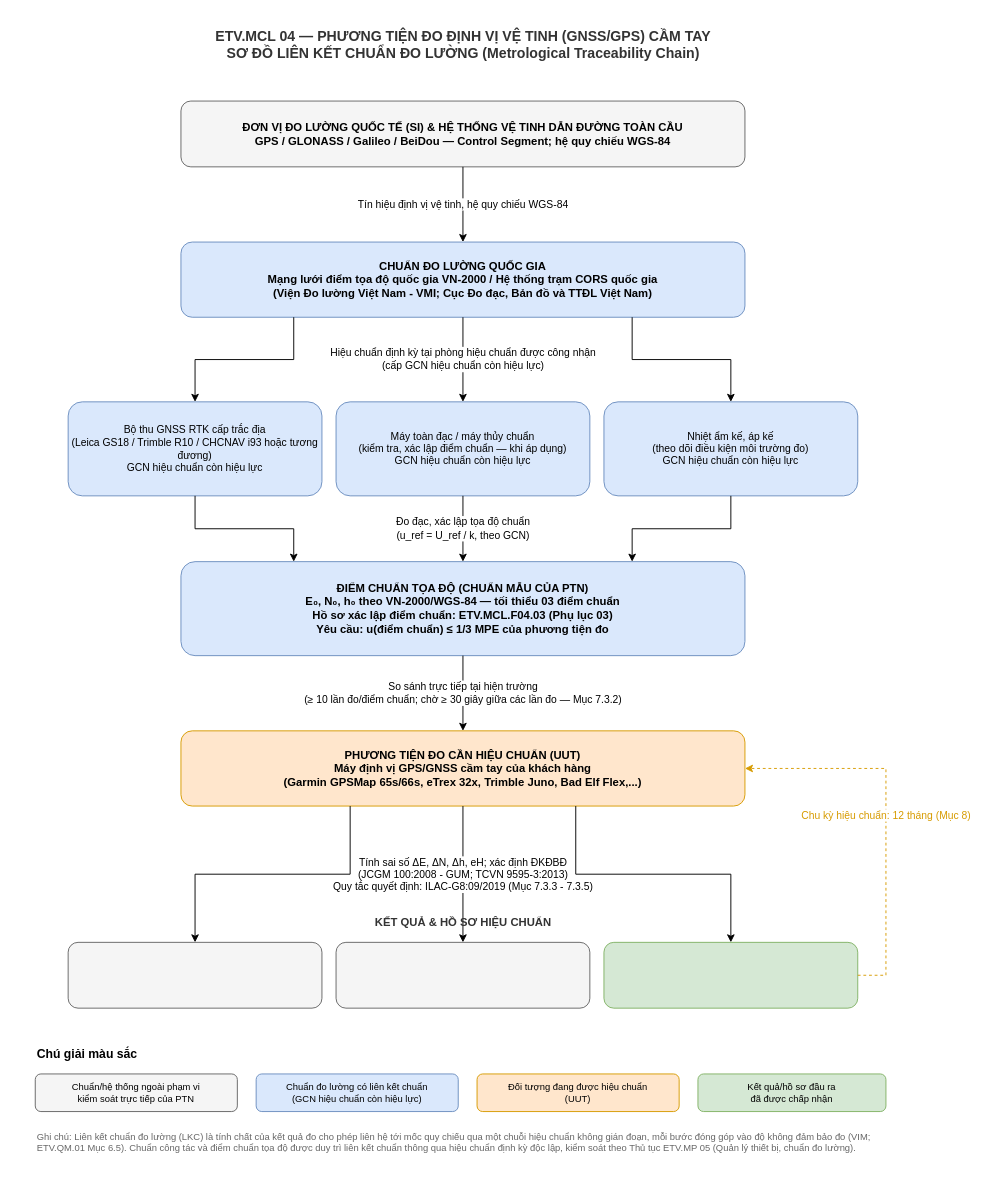
Some shapes in this 986 by 1193 pixel diagram are drawn without their labels. The box of each missing label's shape, as (x1, y1, x2, y2) in pixels:
Biên bản hiệu chuẩn (ETV.MCL.F04.01): (67, 941, 322, 1008)
Bảng tính sai số & ĐKĐBĐ (ETV.MCL.F04.02): (335, 941, 590, 1008)
Giấy chứng nhận hiệu chuẩn (ETV.MCL.F04.04) — dán tem hiệu chuẩn: (603, 941, 858, 1008)
